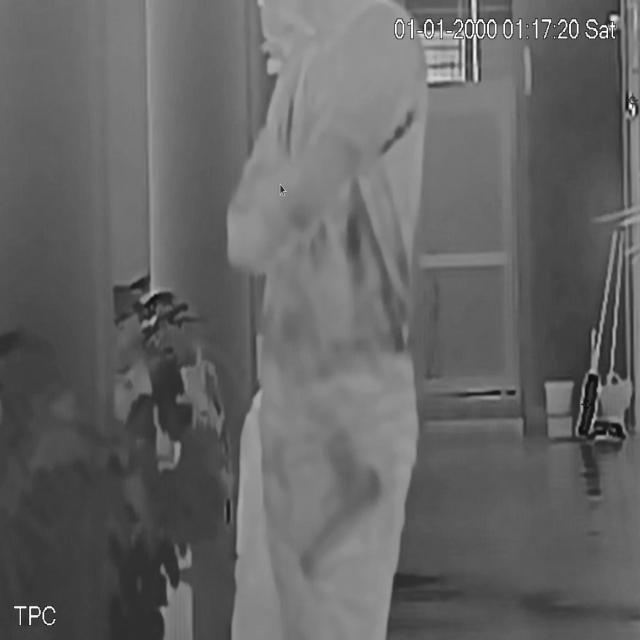Weapon: (279, 431, 396, 583)
